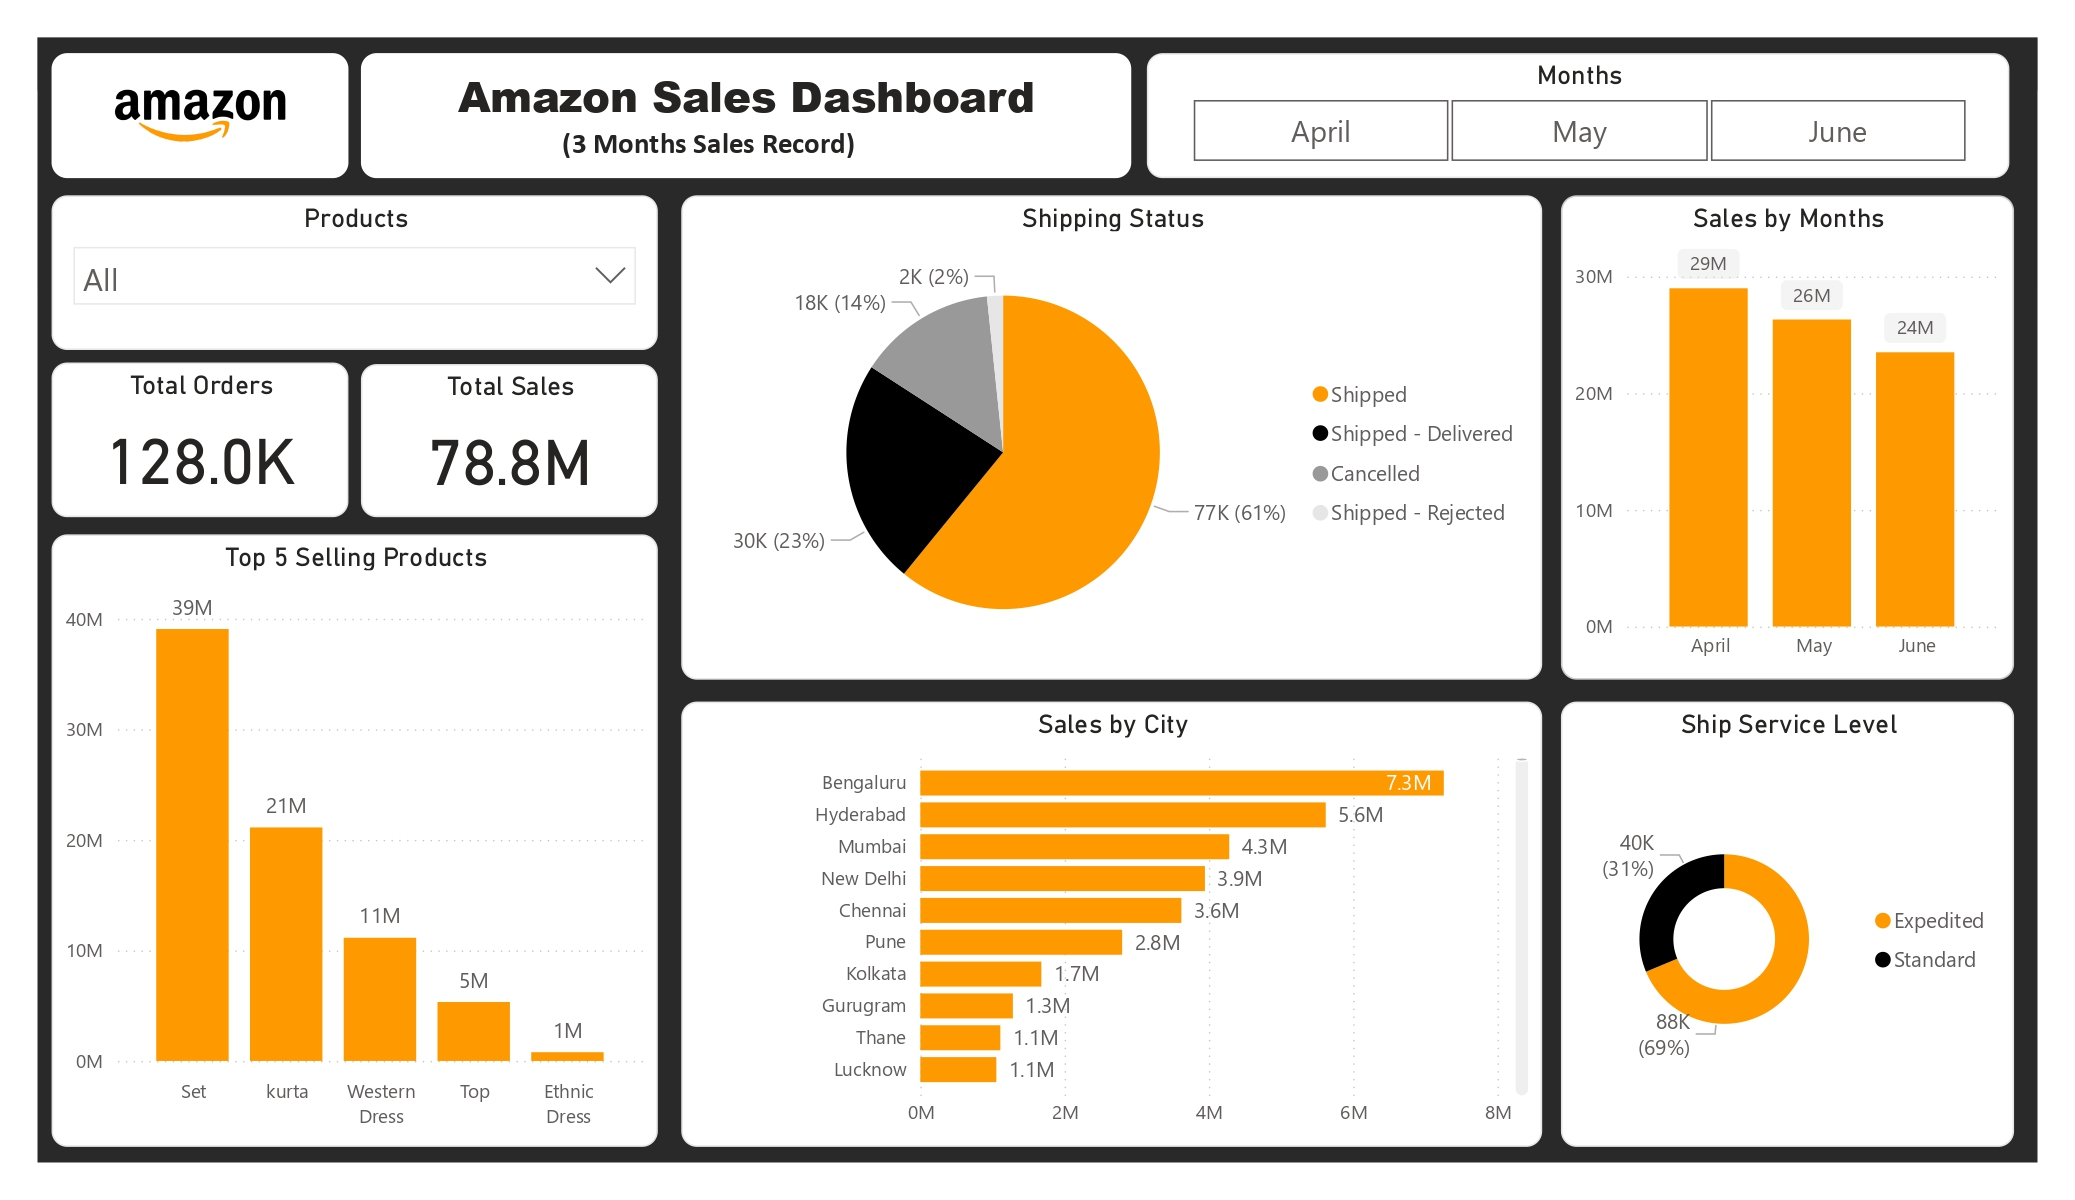

What the dashboard file says about the page in this screenshot:
{"tool":"powerbi","page":{"name":"Page 1","canvas":[1280,720],"ordinal":0},"visuals":[{"type":"card","title":"Total Orders","fields":{"Values":["CountNonNull(Amazon Sale Report.Order ID)"]},"box":[9,208.1,190.1,99],"z":0},{"type":"pieChart","title":"Shipping Status","fields":{"Category":["Amazon Sale Report.Status"],"Y":["CountNonNull(Amazon Sale Report.Status)"]},"box":[411.8,101.2,551.2,309.4],"z":1000},{"type":"columnChart","title":"Top 5 Selling Products","fields":{"Category":["Amazon Sale Report.Products"],"Y":["Sum(Amazon Sale Report.Amount)"]},"box":[9,318.4,388.1,391.5],"z":2000},{"type":"clusteredBarChart","title":"Sales by City","fields":{"Category":["Amazon Sale Report.ship-city"],"Y":["Sum(Amazon Sale Report.sales)"]},"box":[411.8,425.2,551.2,284.6],"z":3000},{"type":"donutChart","title":"Ship Service Level","fields":{"Category":["Amazon Sale Report.ship-service-level"],"Y":["CountNonNull(Amazon Sale Report.ship-service-level)"]},"box":[975.4,425.2,289.1,284.6],"z":4000},{"type":"card","title":"Total Sales","fields":{"Values":["Sum(Amazon Sale Report.sales)"]},"box":[207,209.2,190.1,97.9],"z":5000},{"type":"lineStackedColumnComboChart","title":"Sales by Months","fields":{"Category":["Amazon Sale Report.Date.Variation.Date Hierarchy.Month"],"Y":["Sum(Amazon Sale Report.sales)"]},"box":[975.4,101.2,289.1,309.4],"z":6000},{"type":"slicer","title":"Products","fields":{"Values":["Amazon Sale Report.Products"]},"box":[9,101.2,388.1,99],"z":7000},{"type":"slicer","title":"Months","fields":{"Values":["Amazon Sale Report.Date.Variation.Date Hierarchy.Month"]},"box":[709.9,10.1,552.4,79.9],"z":8000},{"type":"textbox","box":[207,10.1,492.8,79.9],"z":9000},{"type":"textbox","box":[330.8,50.6,267.8,50.6],"z":10000},{"type":"image","box":[9,10.1,190.1,79.9],"z":11000}]}

Visuals, with their boxes in screenshot pixels (x1, y1, x2, y2):
"Total Orders" card: locate(52, 363, 349, 517)
"Shipping Status" pieChart: locate(681, 196, 1542, 679)
"Top 5 Selling Products" columnChart: locate(52, 535, 658, 1147)
"Sales by City" clusteredBarChart: locate(681, 702, 1542, 1147)
"Ship Service Level" donutChart: locate(1562, 702, 2013, 1147)
"Total Sales" card: locate(361, 364, 658, 517)
"Sales by Months" lineStackedColumnComboChart: locate(1562, 196, 2013, 679)
"Products" slicer: locate(52, 196, 658, 350)
"Months" slicer: locate(1147, 53, 2010, 178)
textbox: locate(361, 53, 1131, 178)
textbox: locate(554, 117, 973, 196)
image: locate(52, 53, 349, 178)
